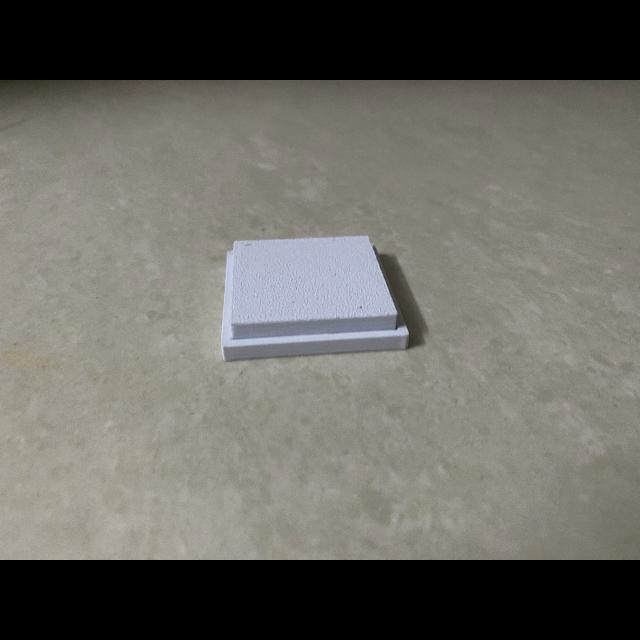RASPBERY PI CAM ENCLOSURE: (220, 235, 410, 361)
